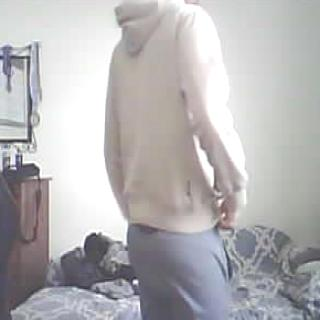Blue Sweatpants: (127, 217, 229, 320)
Yellow Hoodie: (105, 8, 238, 234)
